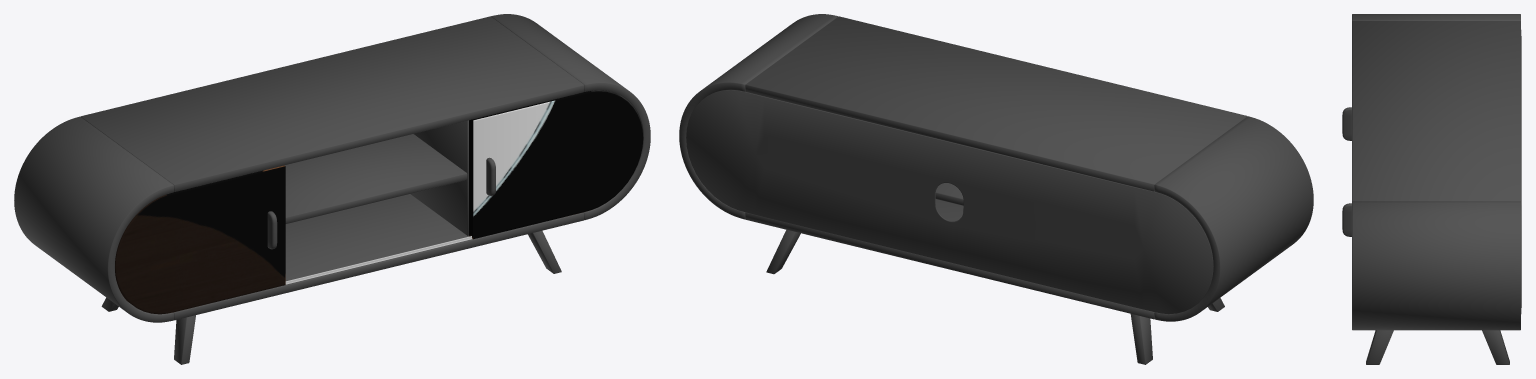
The model's file is fonteyn.gltf.
3 renders of one model, left to right at view 1: azimuth 30°, elevation 25°; view 2: azimuth 150°, elevation 25°; view 3: azimuth 270°, elevation 25°, orthographic. The views are drawn at different scales.
Visible parts, largest first — view 1: OAK, WALNUT, ALUMINUM; view 2: OAK; view 3: OAK.
Part boxes in pixels (x1,y1,x2,y2): OAK: (14, 14, 650, 364); WALNUT: (115, 90, 643, 314); ALUMINUM: (285, 236, 472, 284); OAK: (679, 14, 1313, 364); OAK: (1342, 14, 1521, 364).
Size of what is drawn, in the model's own units: 150 by 50.09 by 47.68.
